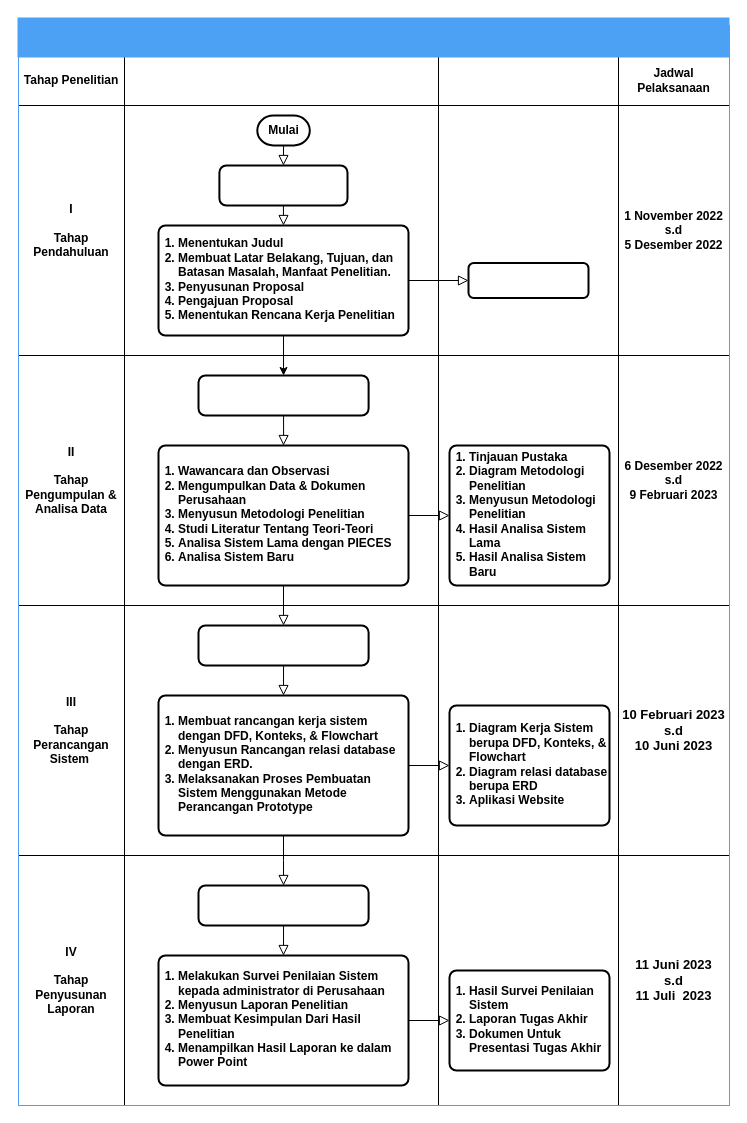
Image size: 747x1123. Some labels were removed from this diagram. Each missing label, with the centre of its shape:
Hasil: (x=528, y=80)
Metode Pengembangan Prototype: (x=373, y=37)
Proposal Pengajuan Tugas Akhir: (x=528, y=280)
Tahap Pendahuluan: (x=283, y=185)
Tahap Pengumpulan & Analisa Data: (x=283, y=395)
Tahap Penyusunan Laporan: (x=283, y=905)
Tahap Perancangan Sistem: (x=283, y=645)
Tindakan: (x=281, y=80)
